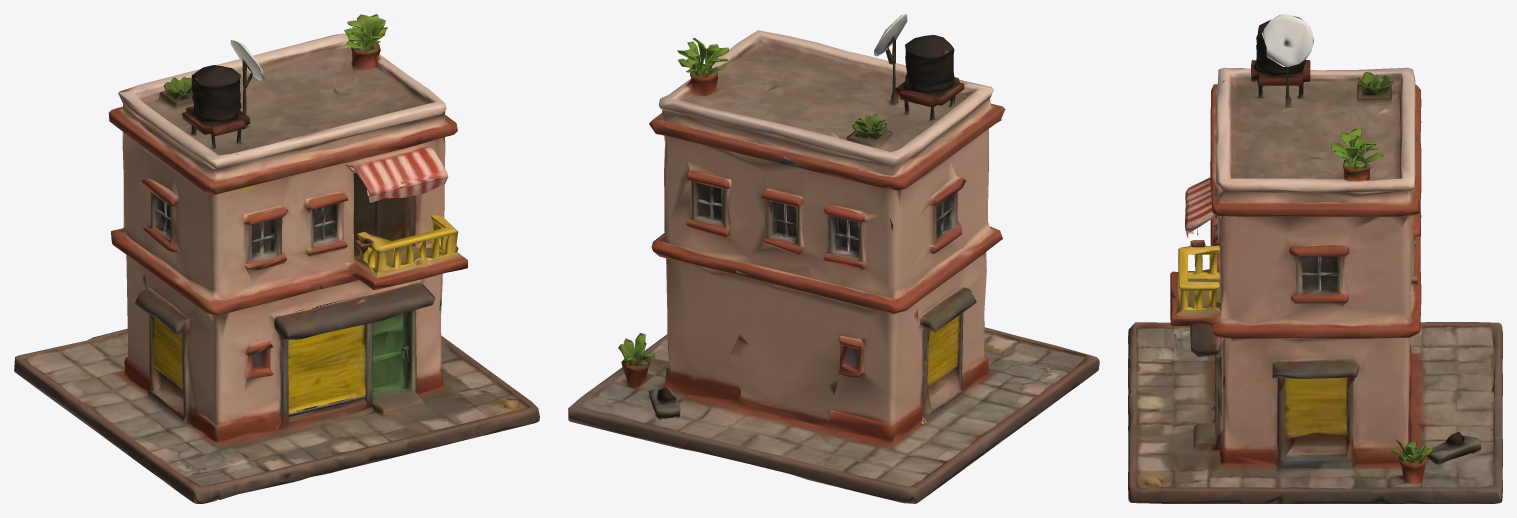
Rendered from homec.glb.
3 renders of one model, left to right at view 1: azimuth 30°, elevation 25°; view 2: azimuth 150°, elevation 25°; view 3: azimuth 270°, elevation 25°, orthographic.
Visible parts, largest first — view 1: tripo_node_f50e3cd0-a7e8-4b7c-8439-6664dcff6e0d; view 2: tripo_node_f50e3cd0-a7e8-4b7c-8439-6664dcff6e0d; view 3: tripo_node_f50e3cd0-a7e8-4b7c-8439-6664dcff6e0d.
Boxes of the visible parts, box(x1,y1,x2,y2) form: tripo_node_f50e3cd0-a7e8-4b7c-8439-6664dcff6e0d: box(14, 14, 539, 503); tripo_node_f50e3cd0-a7e8-4b7c-8439-6664dcff6e0d: box(568, 14, 1099, 503); tripo_node_f50e3cd0-a7e8-4b7c-8439-6664dcff6e0d: box(1128, 14, 1502, 503).
Size of the model in its own units: 0.9395 by 0.9799 by 0.8774.
1 material, 1 textured.
